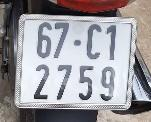1: (104, 23, 118, 62)
2: (34, 62, 51, 102)
5: (77, 63, 96, 103)
6: (35, 20, 52, 58)
7: (53, 20, 70, 59), (57, 63, 73, 103)
9: (98, 64, 116, 101)
C: (85, 20, 104, 61)
